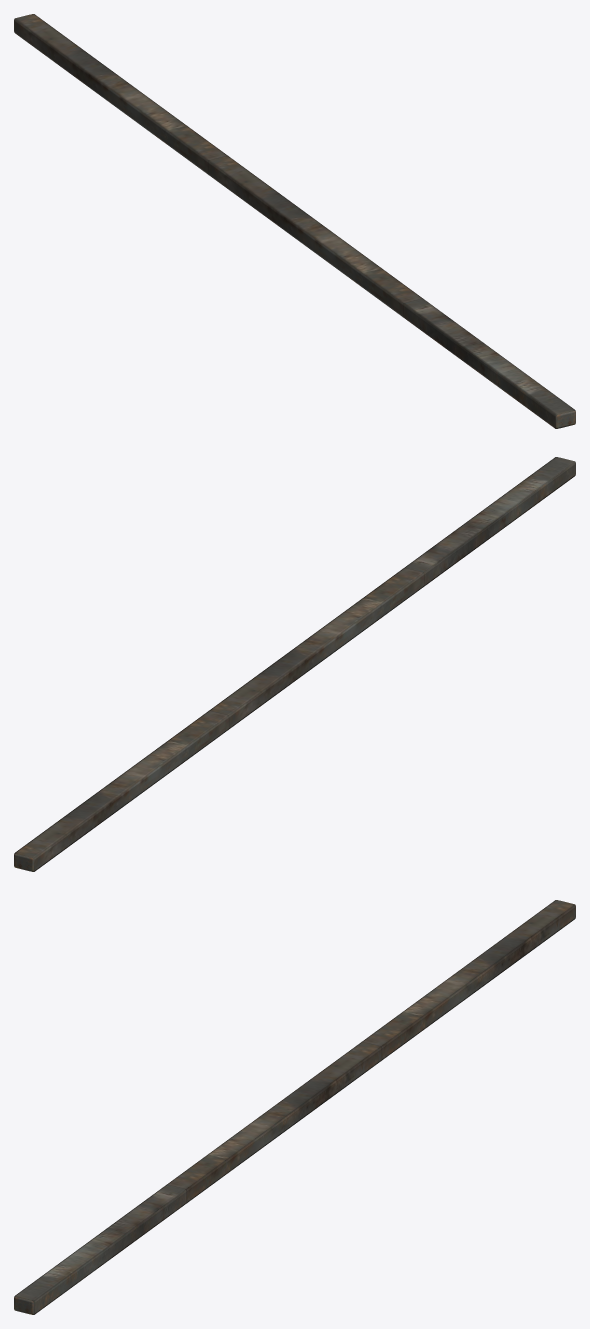
Rendered from railing_003.glb.
3 renders of one model, top to bottom at view 1: azimuth 30°, elevation 25°; view 2: azimuth 150°, elevation 25°; view 3: azimuth 330°, elevation 25°, orthographic.
Visible parts, largest first — view 1: Building_12_072; view 2: Building_12_072; view 3: Building_12_072.
Boxes of the visible parts, bbox=[...] form: Building_12_072: bbox=[14, 14, 575, 428]; Building_12_072: bbox=[14, 457, 575, 871]; Building_12_072: bbox=[14, 900, 575, 1314].
Bounding box in the file's own units: 0.0223 × 0.0154 × 1.
1 material, 1 textured.
